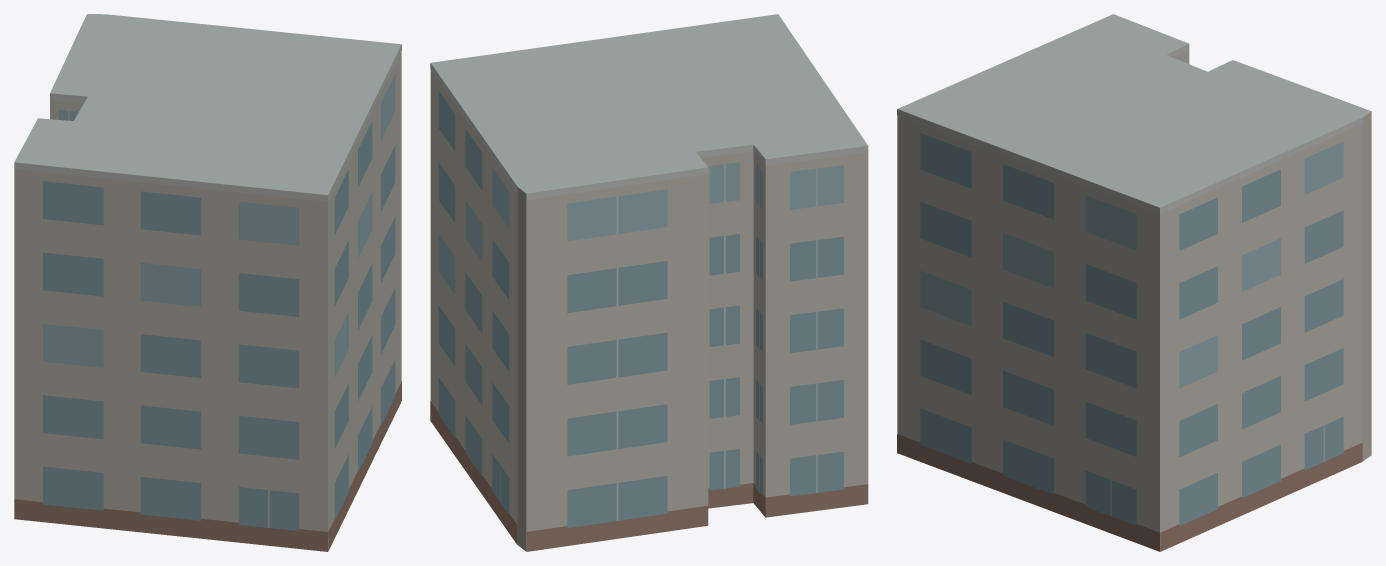
Rendered from survey-upis-32780890.glb.
3 renders of one model, left to right at view 1: azimuth 30°, elevation 25°; view 2: azimuth 150°, elevation 25°; view 3: azimuth 270°, elevation 25°, orthographic. The views are drawn at different scales.
Visible parts, largest first — view 1: survey-upis-32780890.tmp; view 2: survey-upis-32780890.tmp; view 3: survey-upis-32780890.tmp.
Boxes of the visible parts, x1,y1,x2,y2 form: survey-upis-32780890.tmp: (14,14,401,551); survey-upis-32780890.tmp: (430,14,868,551); survey-upis-32780890.tmp: (897,14,1371,551).
Bounding box in the file's own units: 15.83 × 13.1 × 16.38.
